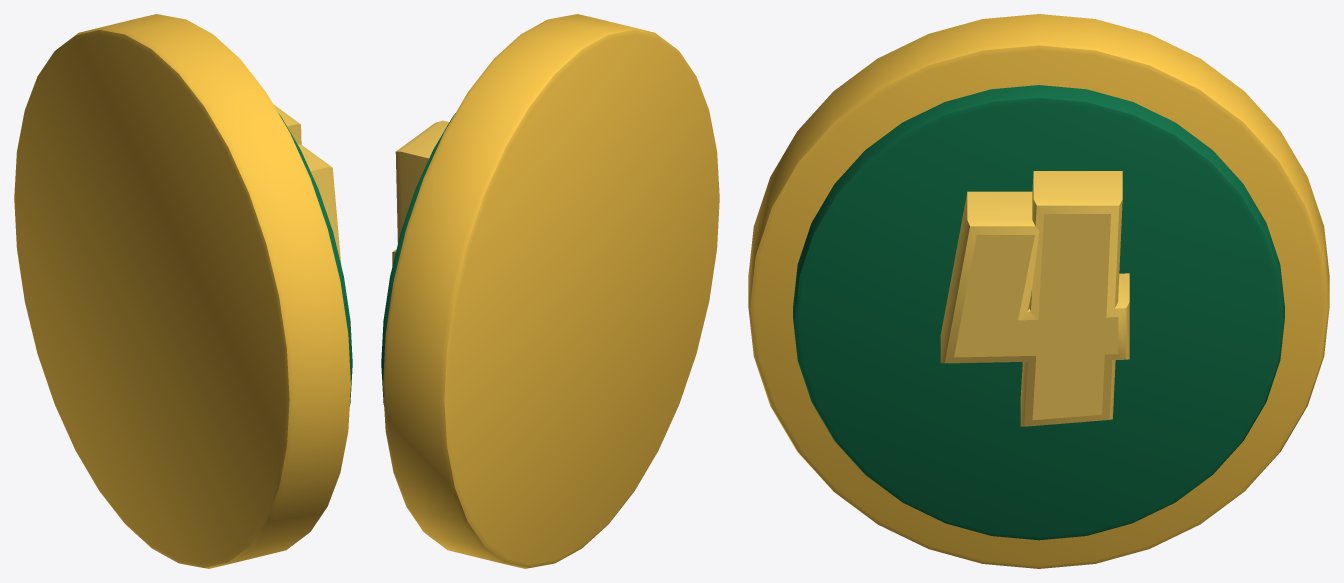
The model's file is PlazaBay4.fbx.
3 renders of one model, left to right at view 1: azimuth 30°, elevation 25°; view 2: azimuth 150°, elevation 25°; view 3: azimuth 270°, elevation 25°, orthographic. The views are drawn at different scales.
Visible parts, largest first — view 1: PlazaBay4; view 2: PlazaBay4; view 3: PlazaBay4.
Boxes of the visible parts, box(x1,y1,x2,y2) form: PlazaBay4: box(14, 14, 352, 568); PlazaBay4: box(381, 14, 719, 568); PlazaBay4: box(748, 14, 1329, 568).
Bounding box in the file's own units: 82.5 × 260 × 260.
